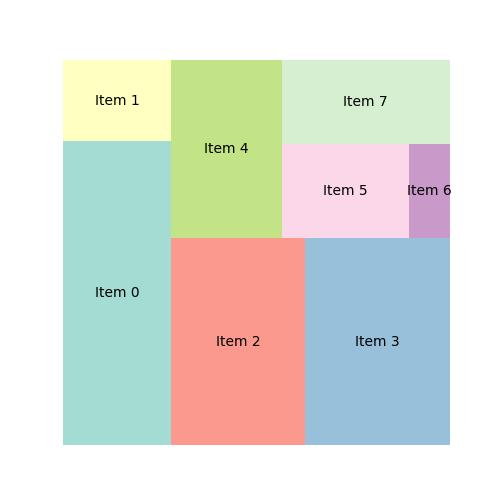rectangle: (62, 140, 170, 446), (304, 237, 450, 446), (171, 238, 305, 446), (169, 58, 282, 239), (282, 59, 450, 144), (283, 144, 411, 239), (62, 59, 170, 141), (410, 144, 450, 238)
